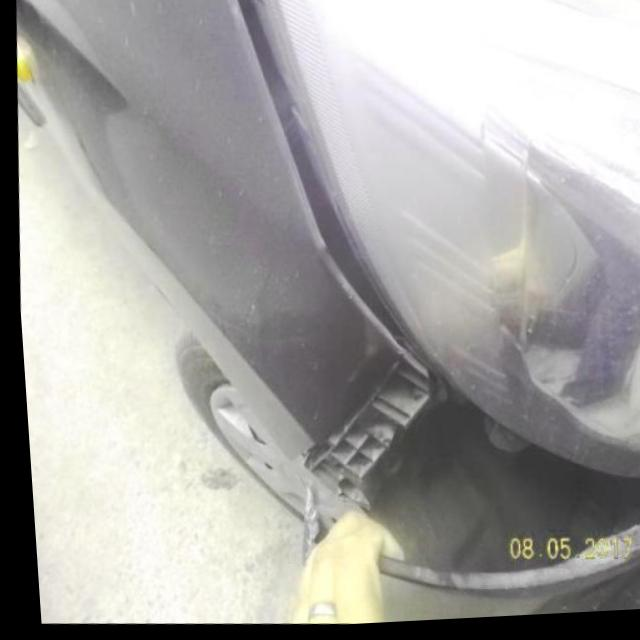Car-Damage: (273, 340, 640, 603)
